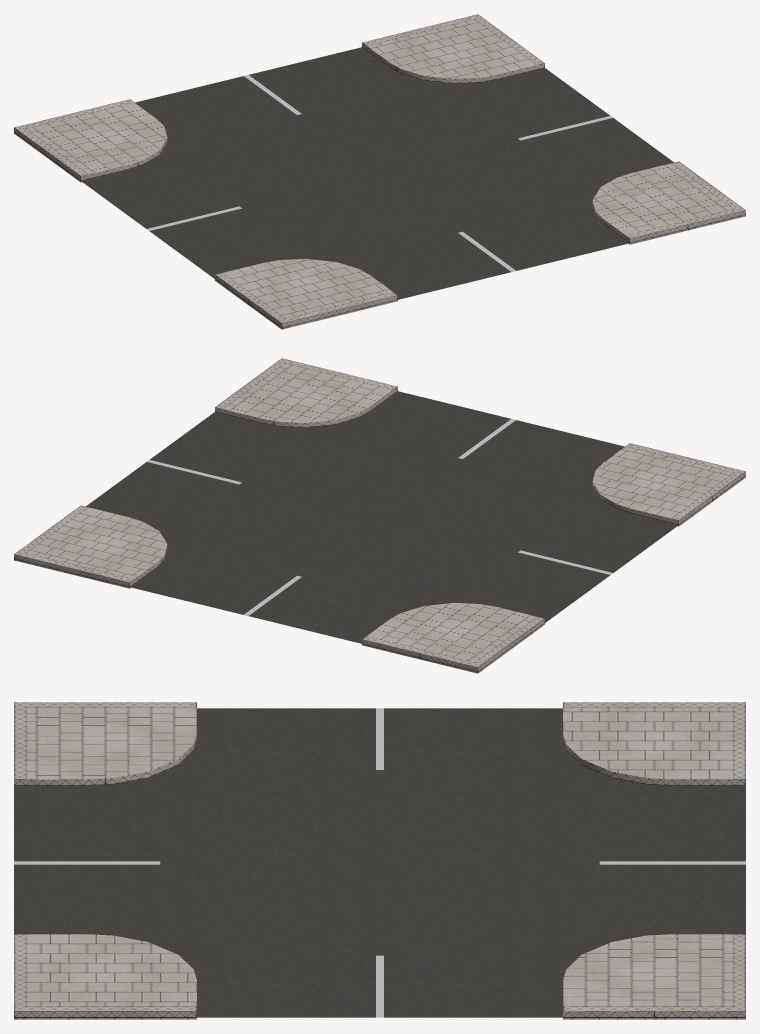
File: Street_corner.fbx
3 renders of one model, top to bottom at view 1: azimuth 30°, elevation 25°; view 2: azimuth 150°, elevation 25°; view 3: azimuth 270°, elevation 25°, orthographic. The views are drawn at different scales.
Parts seen in each view (by area): view 1: street, pavement, lines; view 2: street, pavement, lines; view 3: street, pavement, lines.
Boxes of the visible parts, x1=… form: street: x1=81, y1=47, x2=673, y2=299; pavement: x1=14, y1=14, x2=745, y2=329; lines: x1=147, y1=75, x2=612, y2=271; street: x1=86, y1=391, x2=678, y2=643; pavement: x1=14, y1=358, x2=745, y2=673; lines: x1=147, y1=419, x2=612, y2=615; street: x1=14, y1=708, x2=745, y2=1017; pavement: x1=14, y1=702, x2=745, y2=1019; lines: x1=14, y1=708, x2=745, y2=1017.
Size of the model in its own units: 400 by 5 by 400.
